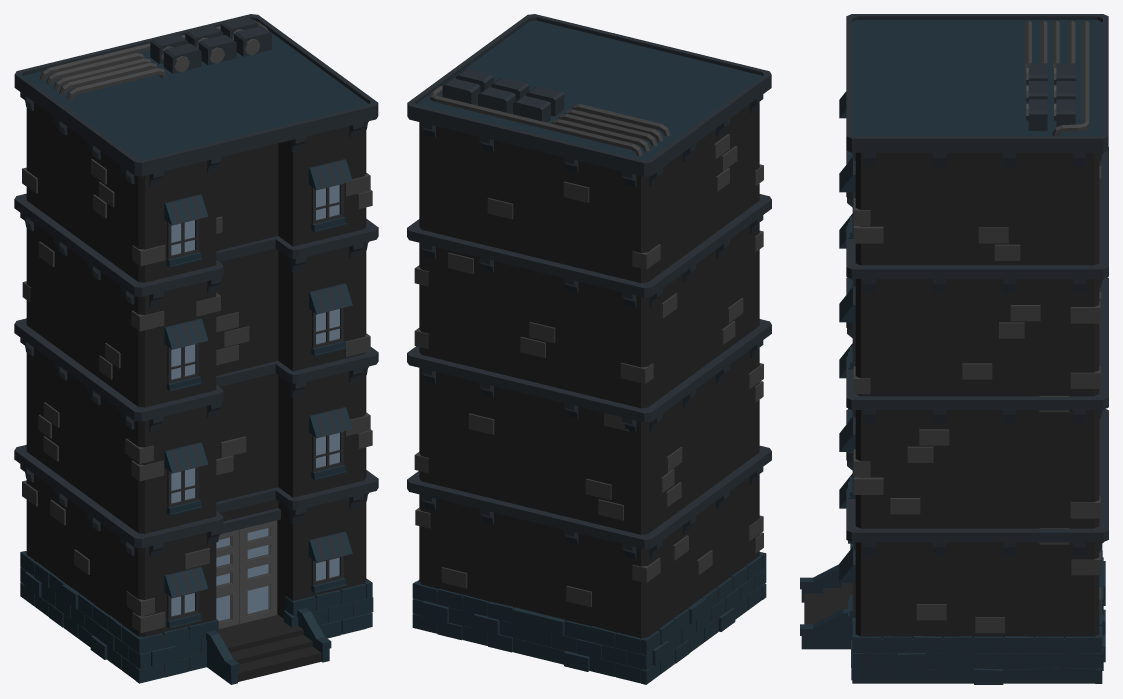
The model's file is four-story-center.glb.
3 views of the same model, side by side, from view 1: azimuth 30°, elevation 25°; view 2: azimuth 150°, elevation 25°; view 3: azimuth 270°, elevation 25° (orthographic). The views are drawn at different scales.
Parts seen in each view (by area): view 1: 4Story_Center_Cube.027; view 2: 4Story_Center_Cube.027; view 3: 4Story_Center_Cube.027.
Boxes of the visible parts, bbox=[...] form: 4Story_Center_Cube.027: bbox=[14, 14, 378, 684]; 4Story_Center_Cube.027: bbox=[407, 14, 771, 684]; 4Story_Center_Cube.027: bbox=[800, 14, 1108, 684].
Size of the model in its own units: 2.42 by 5.09 by 2.53.
Materials: 1 (1 with a texture image).
